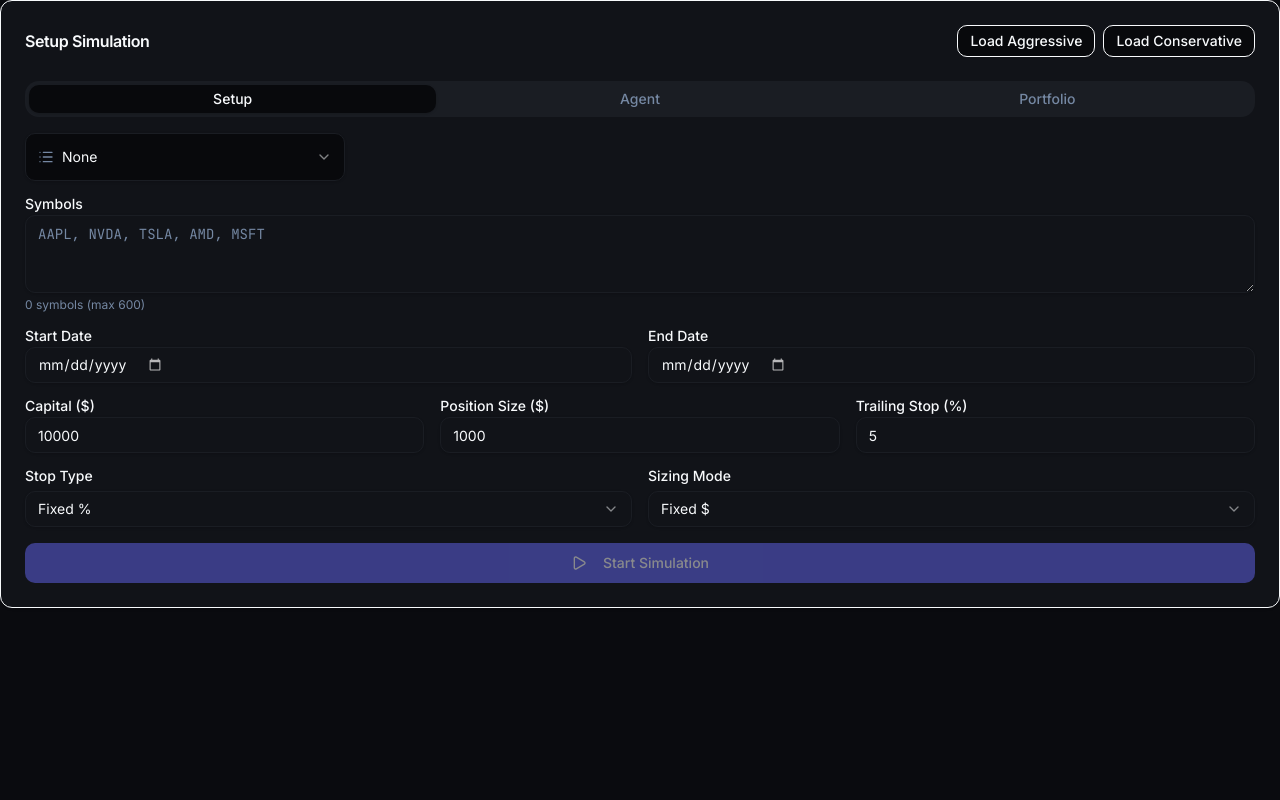
Test: ArenaSetupForm › should show agent configuration section
This screenshot has width=1280, height=800.
// Agent configuration lives on the Agent tab (not the default Setup tab)
Click the tab "Agent" at (640, 99), box x1=436 y1=85 x2=844 y2=113
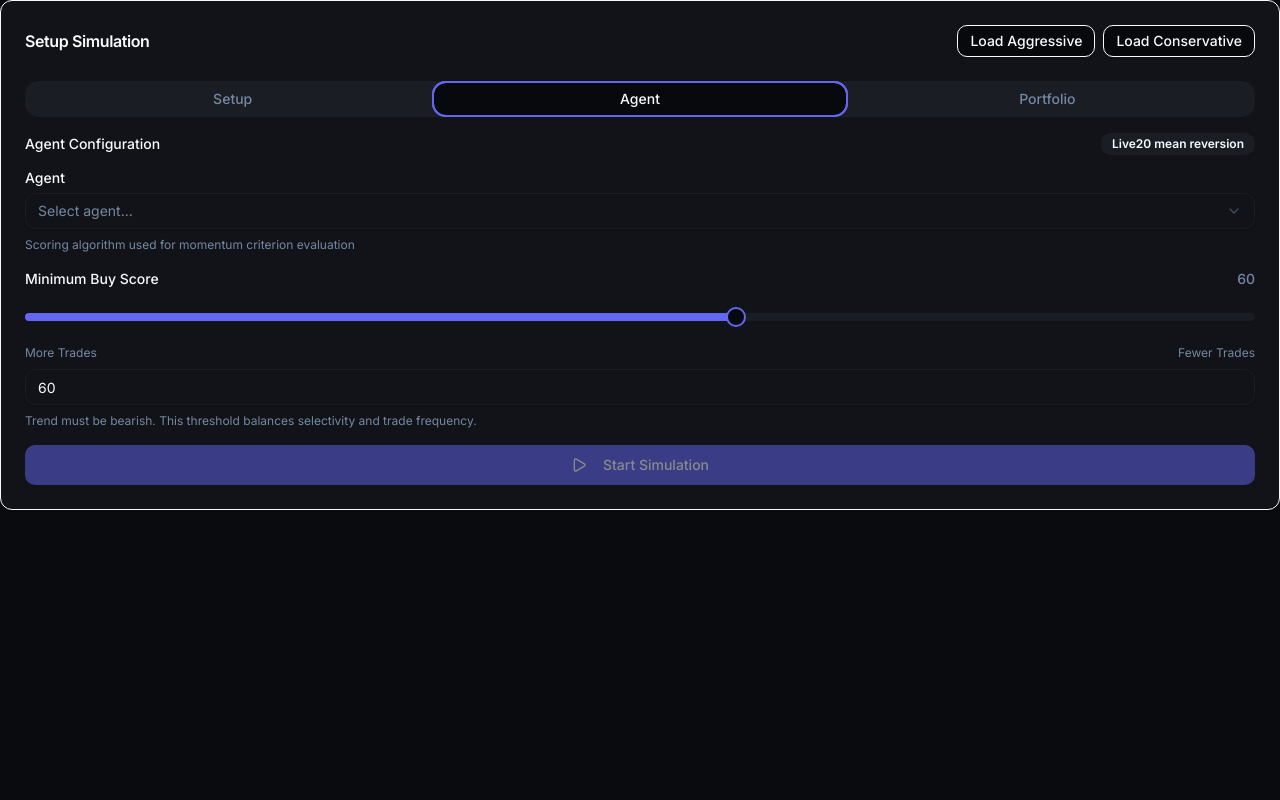
Now the heading "Agent Configuration" is shown, box x1=25 y1=134 x2=160 y2=154
Now the text "Live20 mean reversion" is shown, box x1=1101 y1=133 x2=1255 y2=155
